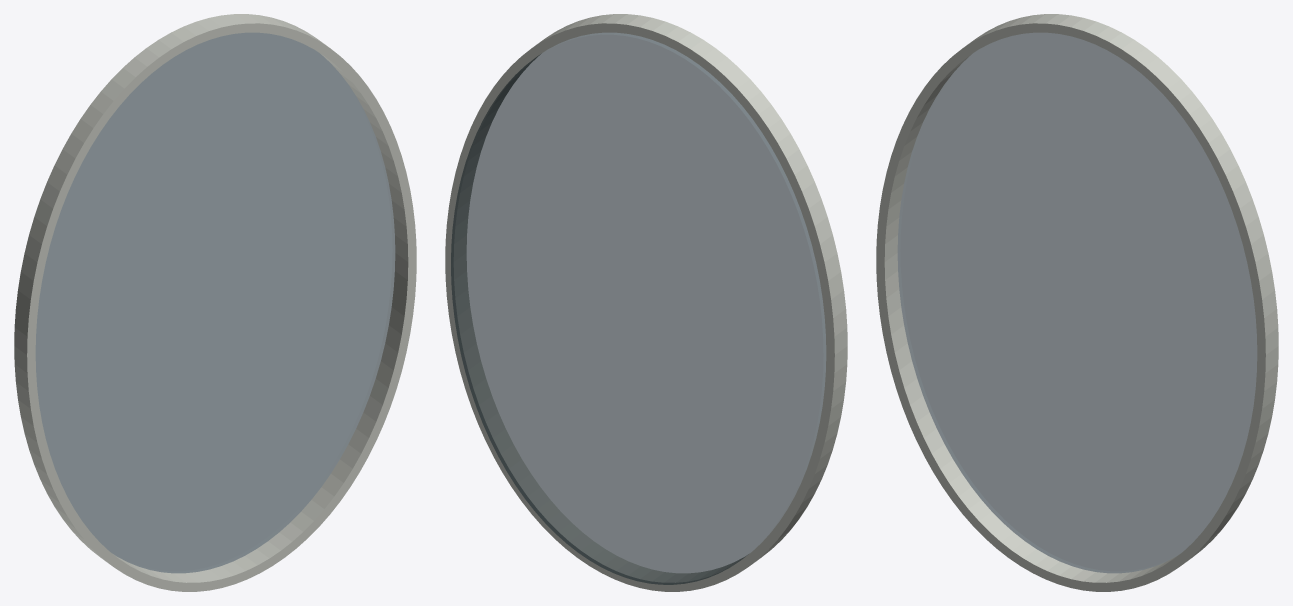
Rendered from moderno_ellipse.glb.
3 renders of one model, left to right at view 1: azimuth 30°, elevation 25°; view 2: azimuth 150°, elevation 25°; view 3: azimuth 330°, elevation 25°, orthographic.
Parts seen in each view (by area): view 1: window_glass#0001, window_reveal#0001; view 2: window_glass#0001, window_reveal#0001; view 3: window_glass#0001, window_reveal#0001.
Boxes of the visible parts, x1,y1,x2,y2 form: window_glass#0001: [35, 32, 395, 573]; window_reveal#0001: [14, 14, 416, 591]; window_glass#0001: [451, 32, 826, 584]; window_reveal#0001: [445, 14, 847, 591]; window_glass#0001: [897, 32, 1257, 573]; window_reveal#0001: [876, 14, 1278, 591].
Bounding box in the file's own units: 1.6 × 2.2 × 0.112.
